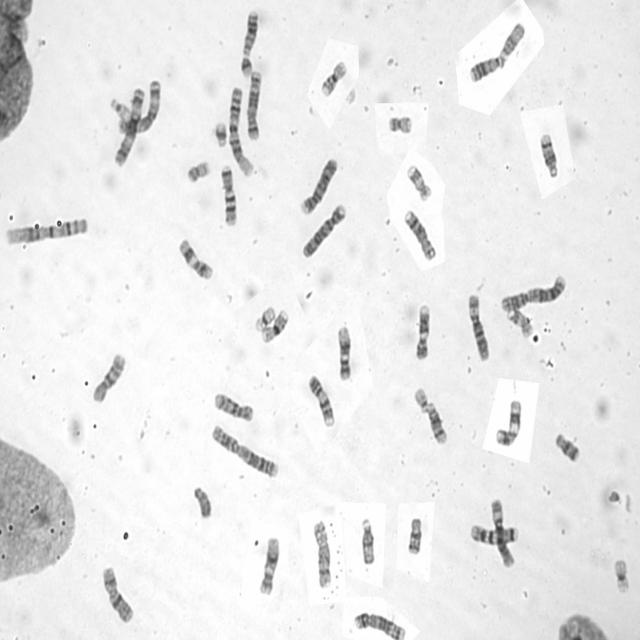A1: (4, 216, 89, 247), (228, 86, 255, 179)
A2: (212, 423, 280, 479), (499, 272, 566, 312)
A3: (112, 88, 146, 168), (116, 80, 162, 138)
B4: (301, 202, 346, 261), (299, 157, 338, 217)
B5: (354, 611, 406, 640), (245, 70, 263, 142)
C10: (92, 350, 125, 404), (212, 392, 255, 422)
C11: (178, 237, 214, 282), (494, 398, 524, 448)
C12: (259, 535, 280, 597), (336, 325, 352, 381)
C6: (489, 498, 516, 568), (467, 293, 491, 363)
C7: (470, 523, 521, 547), (221, 163, 239, 228)
C8: (404, 209, 438, 261), (312, 519, 333, 589)
C9: (307, 373, 336, 428), (415, 303, 431, 361)
D13: (468, 56, 506, 83), (240, 9, 258, 57)
D14: (540, 132, 559, 182), (427, 402, 448, 445)
D15: (499, 21, 525, 61), (360, 517, 376, 566)
E16: (320, 60, 348, 98), (261, 308, 289, 342)
E17: (406, 162, 433, 202), (507, 307, 534, 337)
E18: (553, 432, 581, 464), (406, 518, 424, 556)
F19: (612, 555, 632, 598), (254, 304, 275, 333)
F20: (184, 158, 213, 186), (388, 115, 412, 134)
G21: (214, 120, 228, 150), (240, 56, 255, 78)
G22: (108, 97, 132, 123), (414, 387, 429, 413)
X: (101, 562, 137, 625)
Y: (192, 484, 214, 520)
